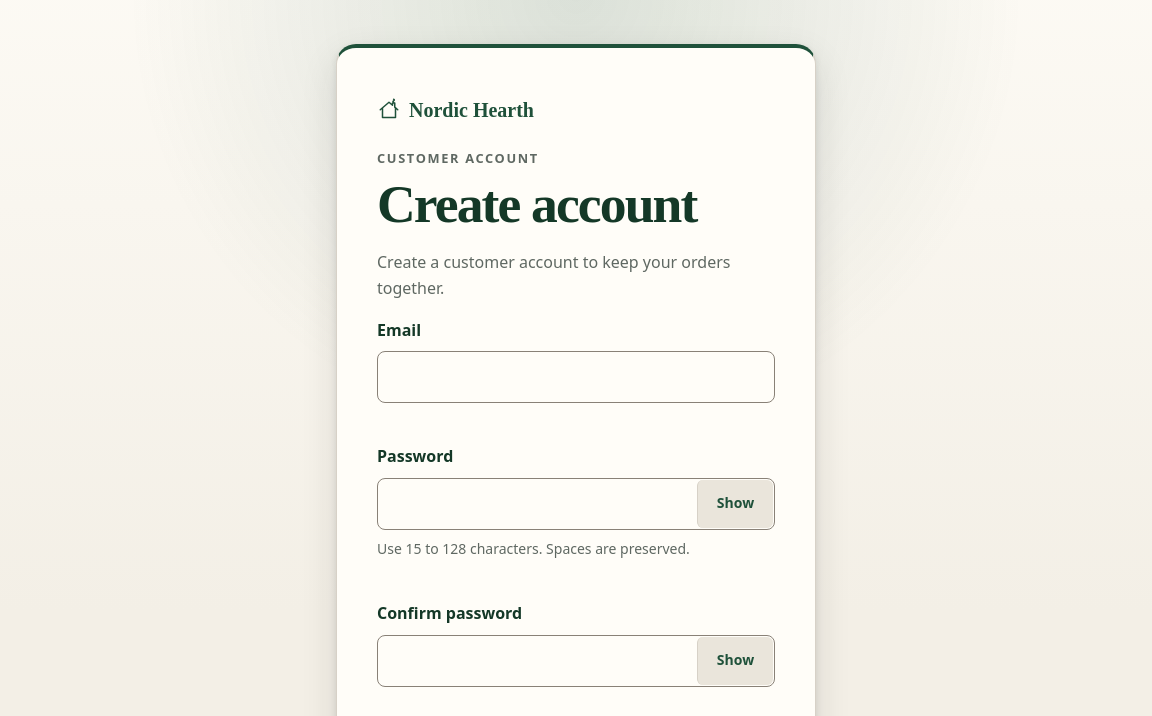
Test: shared registration page › keeps confirmPassword client-only and blocks a mismatch
Type "customer@example.invalid" into the field labelled "Email" at (576, 377), box left=377, top=351, right=775, bottom=403
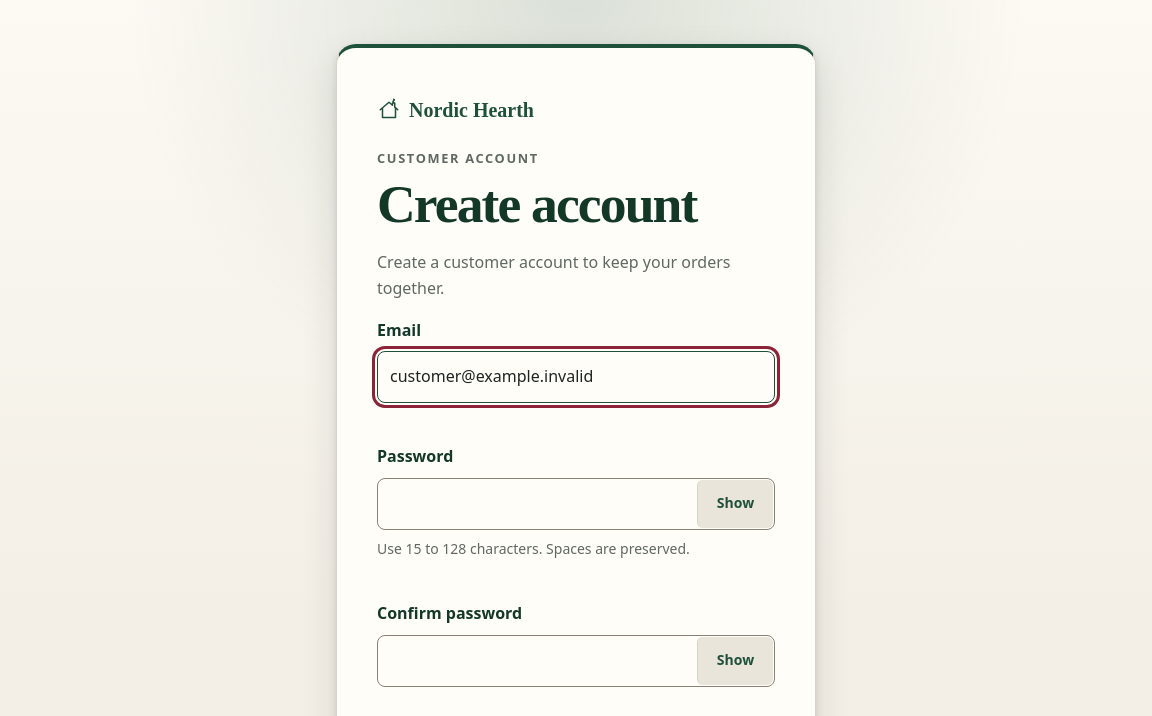
Type " exact password " into the password field labelled "Password" at (576, 504), box left=377, top=478, right=775, bottom=530
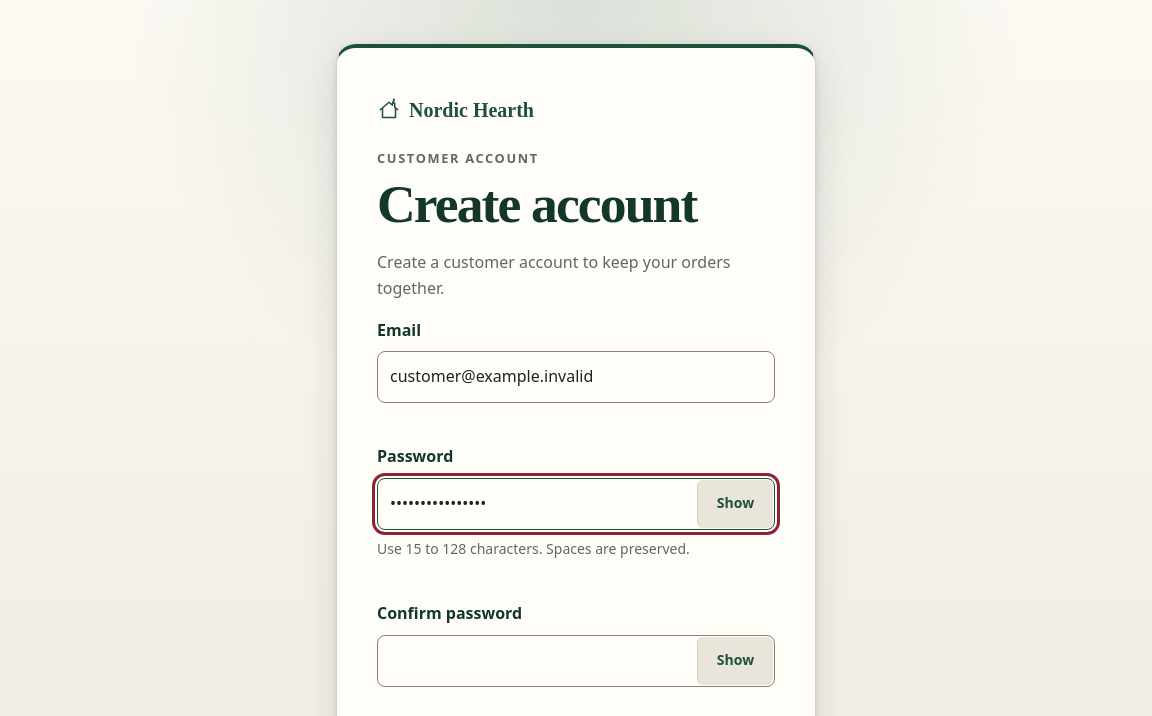
Type "different password" into the password field labelled "Confirm password" at (576, 661), box left=377, top=635, right=775, bottom=687
(page scrolled)
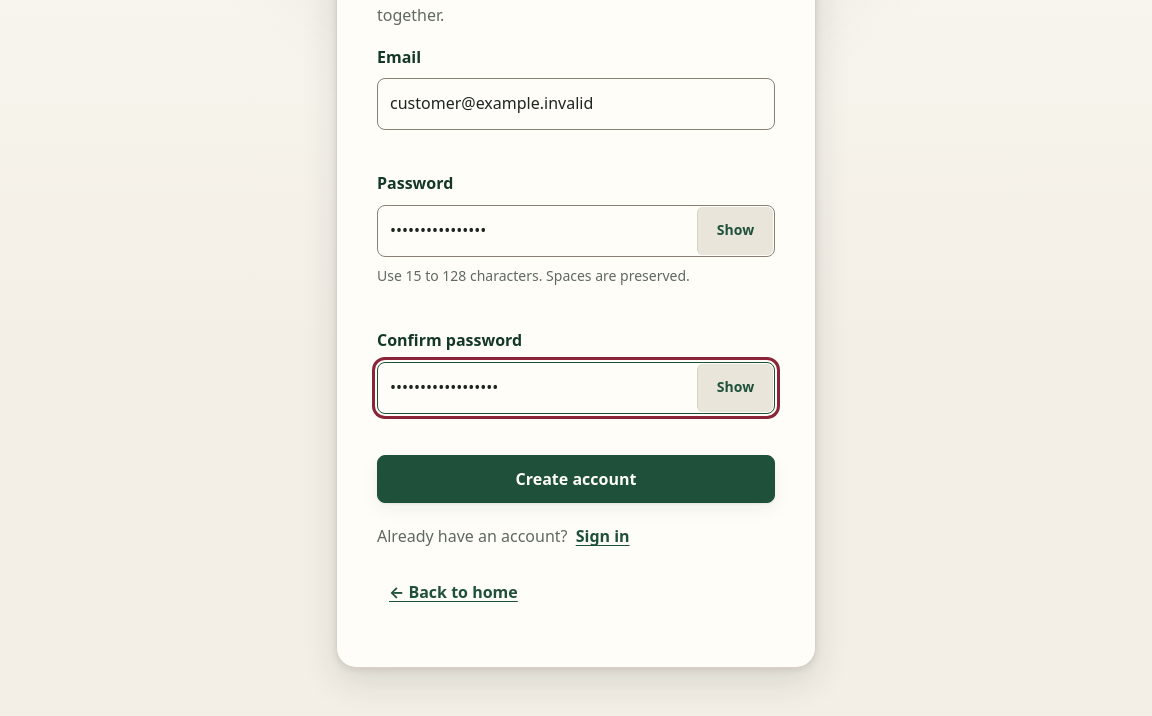
Click the button "Create account" at (576, 479), box left=377, top=455, right=775, bottom=503
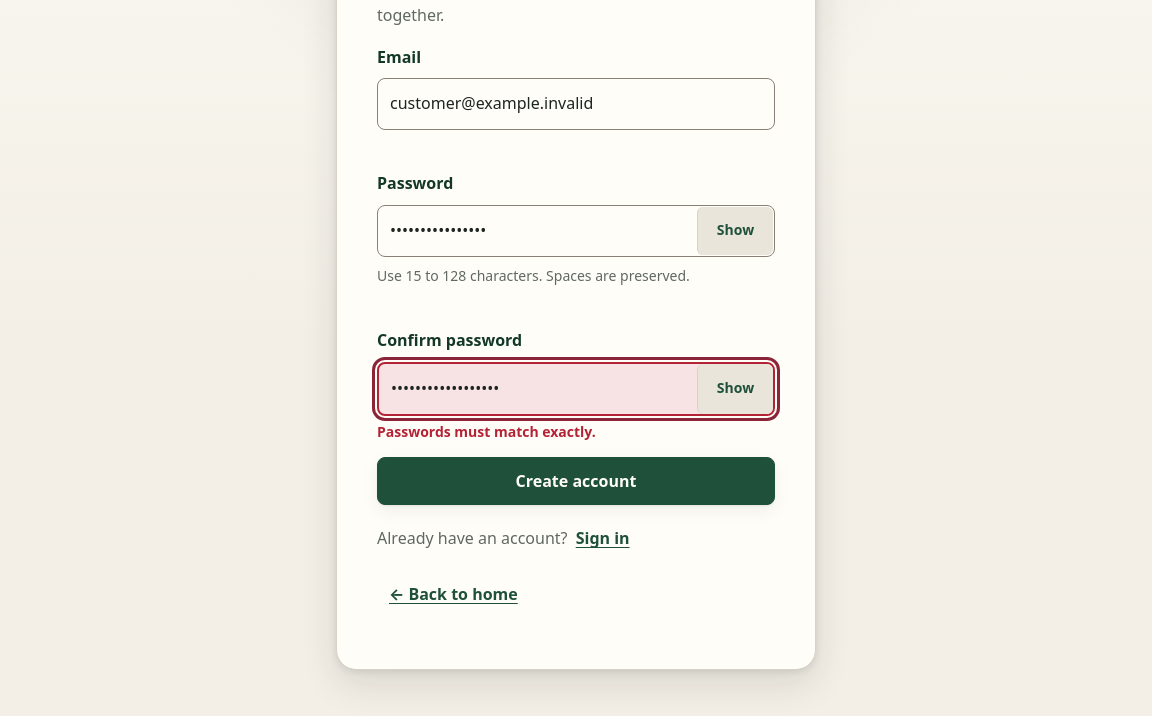
Result: the text "Passwords must match exactly." is shown at left=377, top=422, right=596, bottom=441
